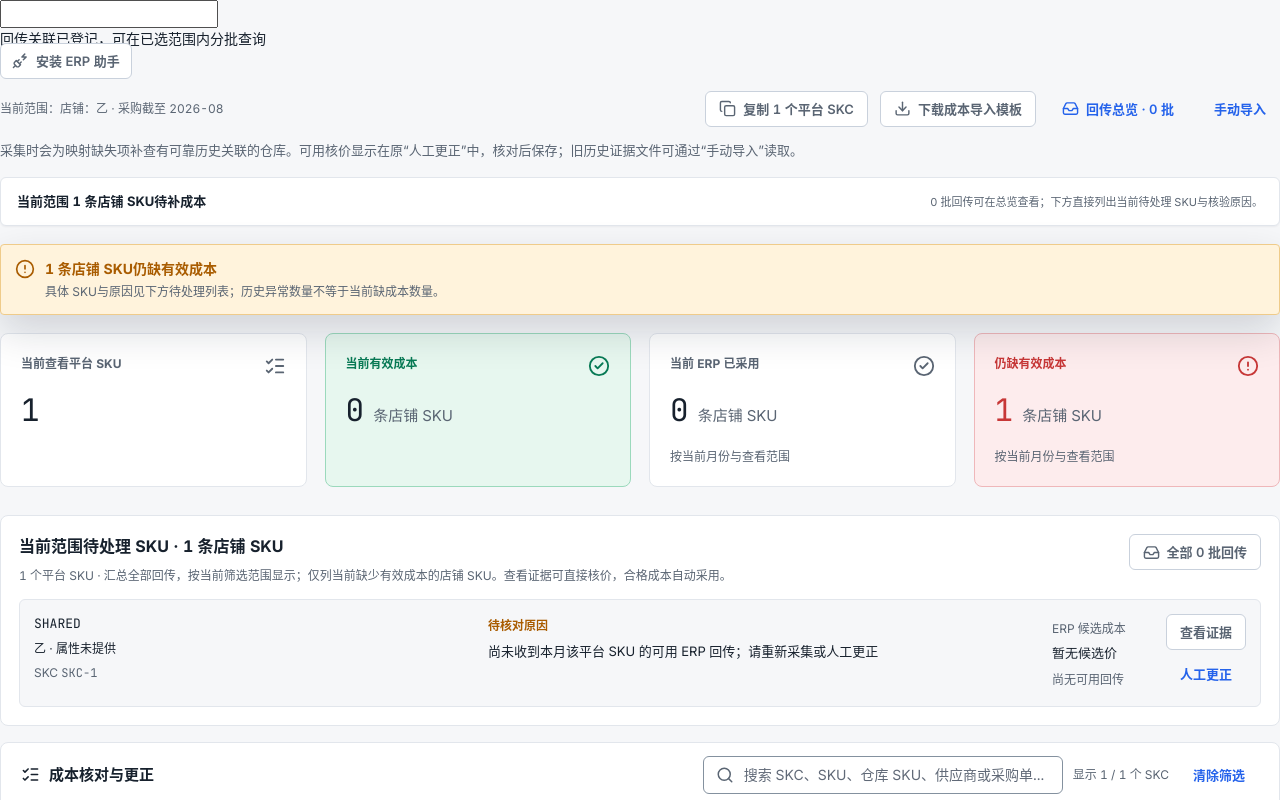
Test case: keeps direct correction within the selected store even when a SKU is shared across stores
Click the button with aria-label "乙 · SHARED · 直接人工更正".
click(1206, 674)  # box top-left (1166, 656), bottom-right (1246, 692)
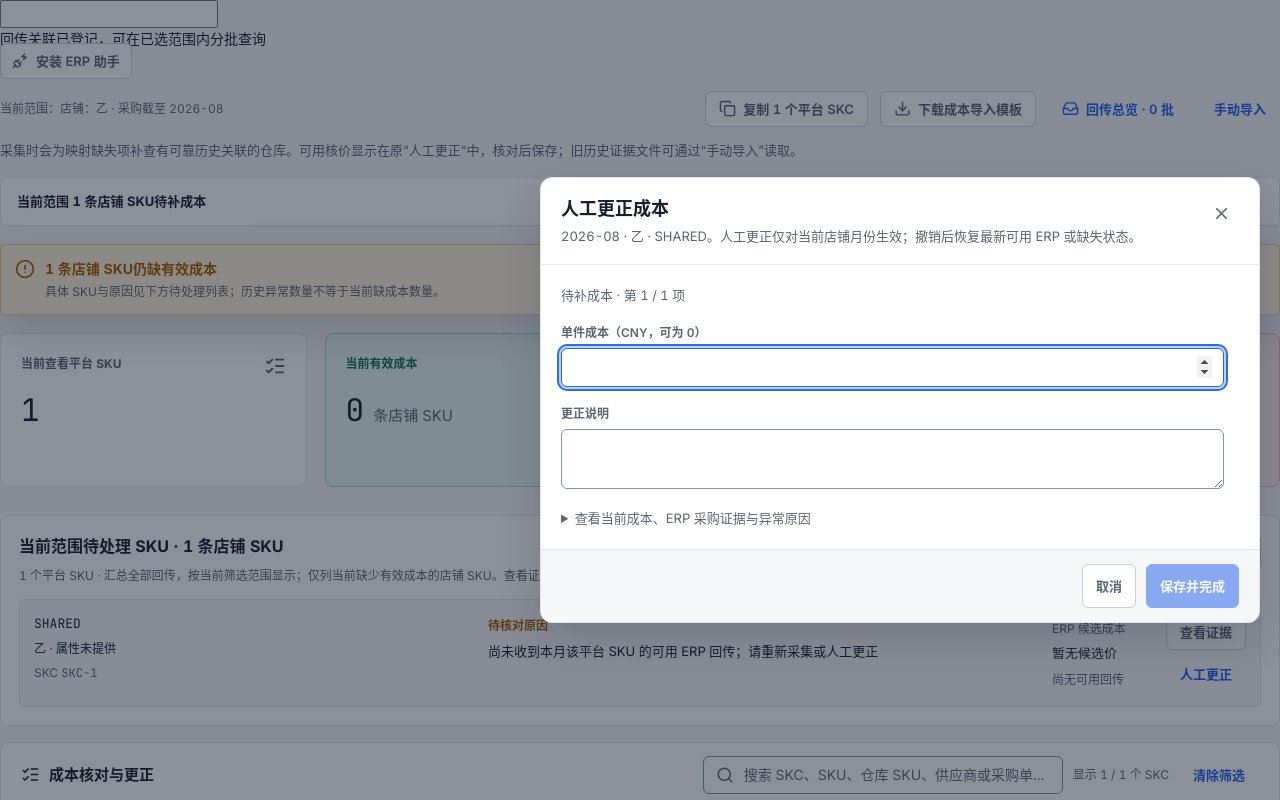
Expected: the dialog shows "乙 · SHARED", top-left (561, 228), bottom-right (1142, 244)
Expected: the dialog shows "第 1 / 1 项", top-left (540, 177), bottom-right (1260, 624)
